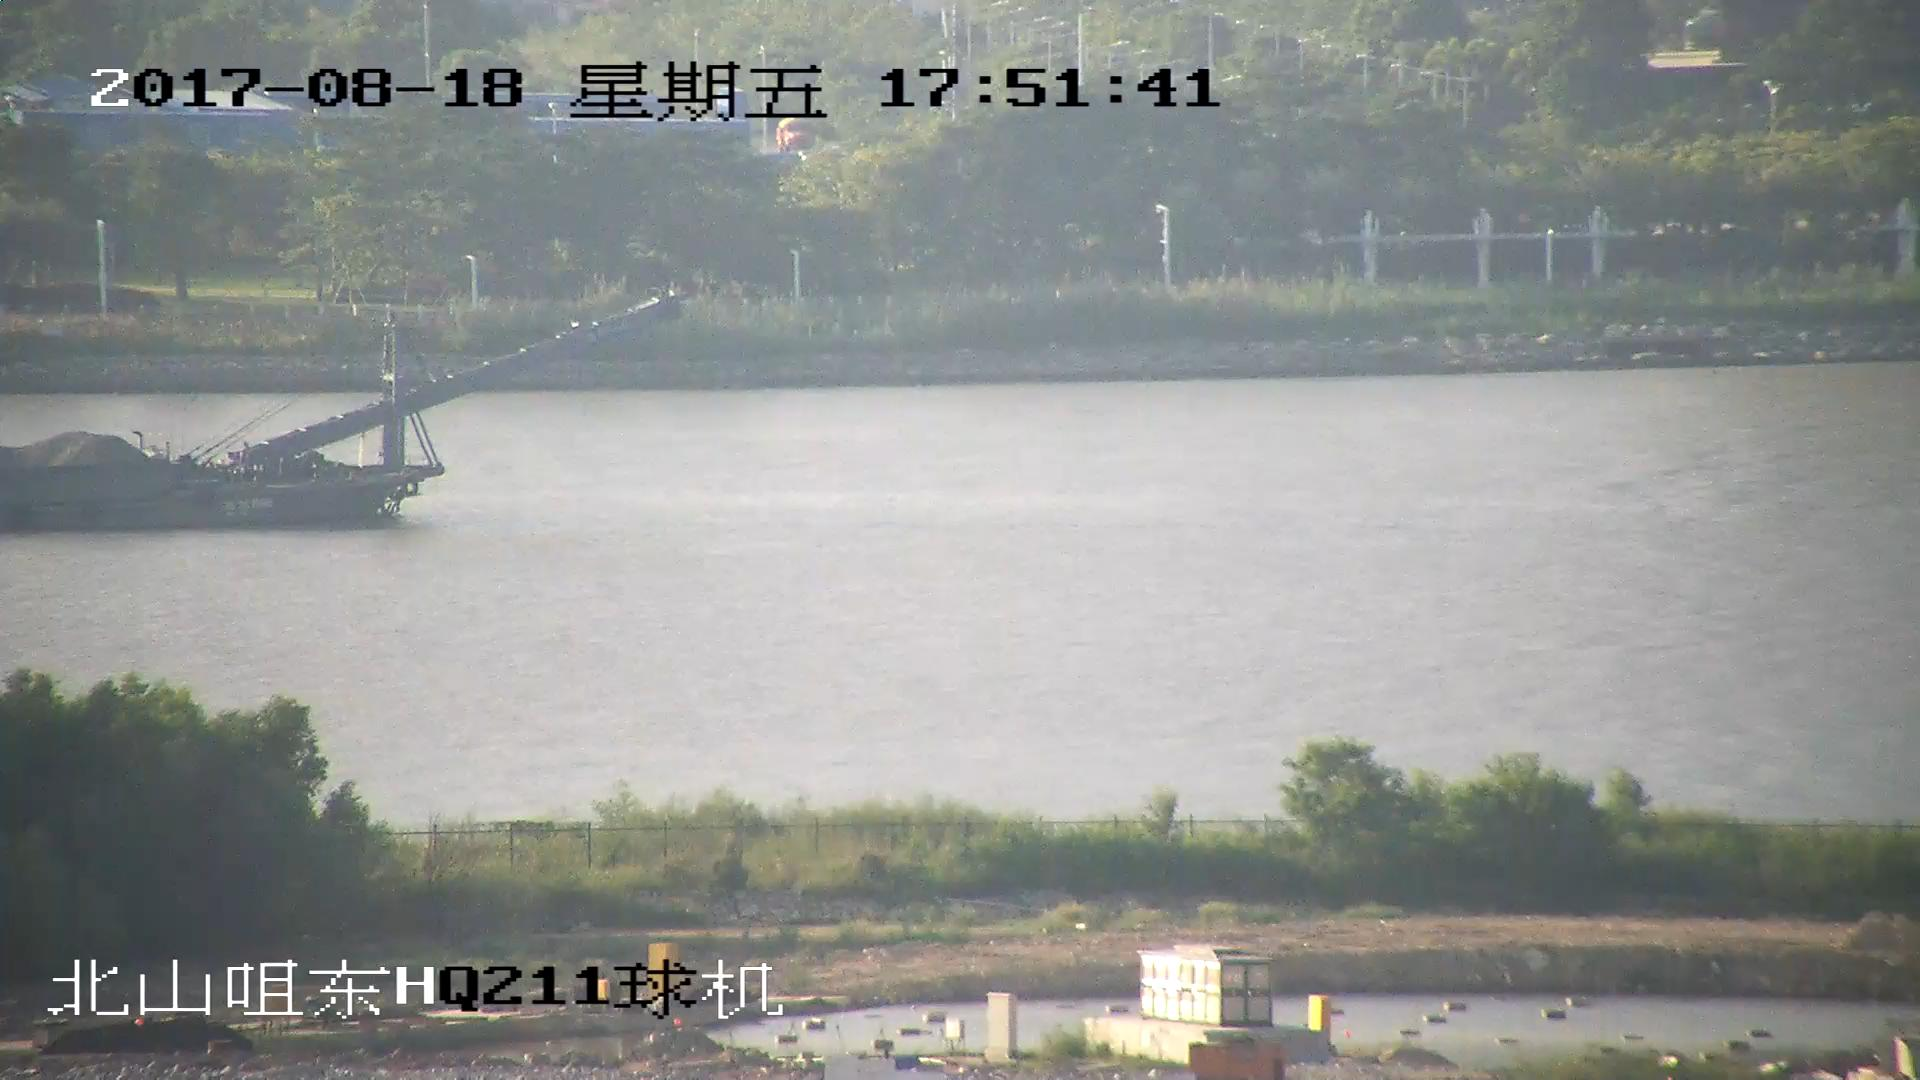ore carrier: (1, 295, 676, 530)
